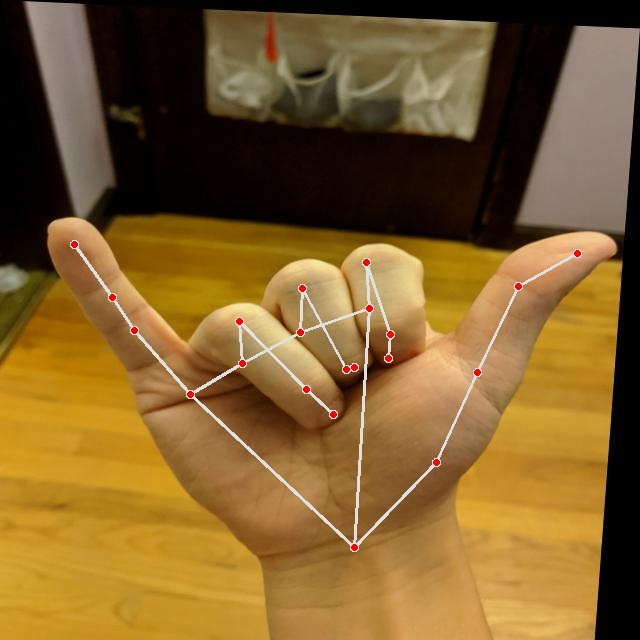Y: (23, 199, 628, 566)
